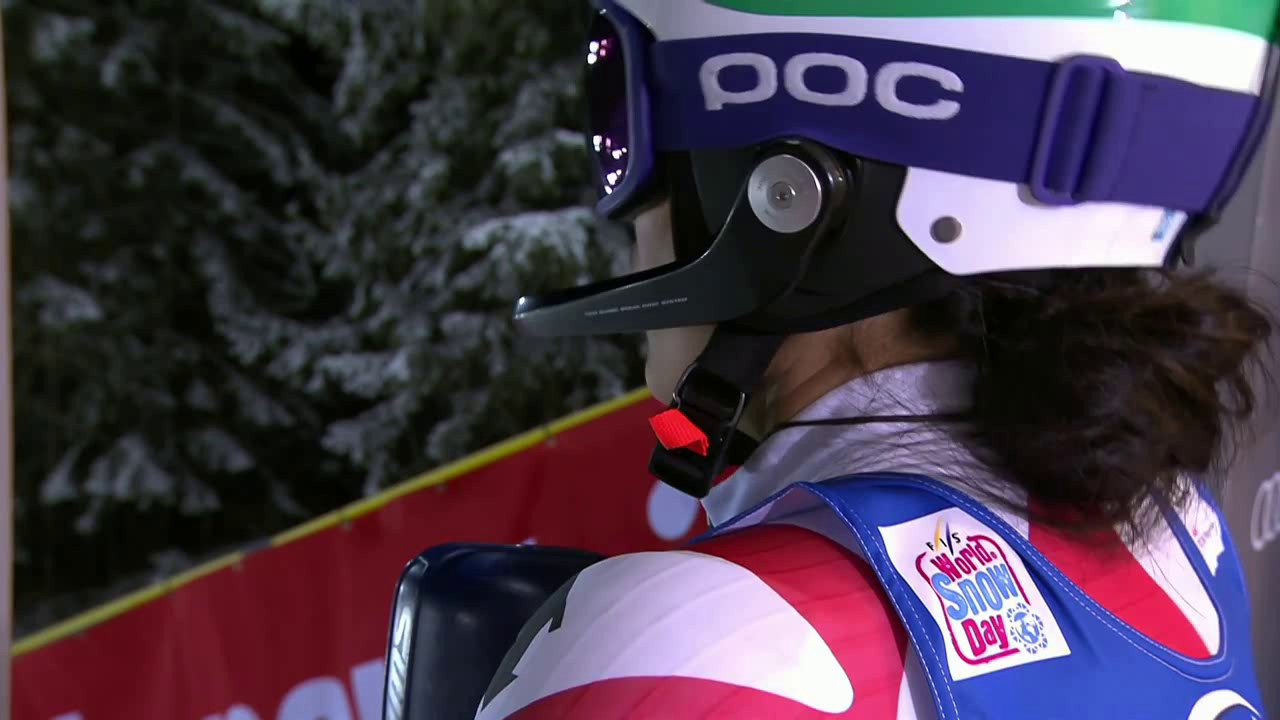audi: (1247, 460, 1279, 555)
